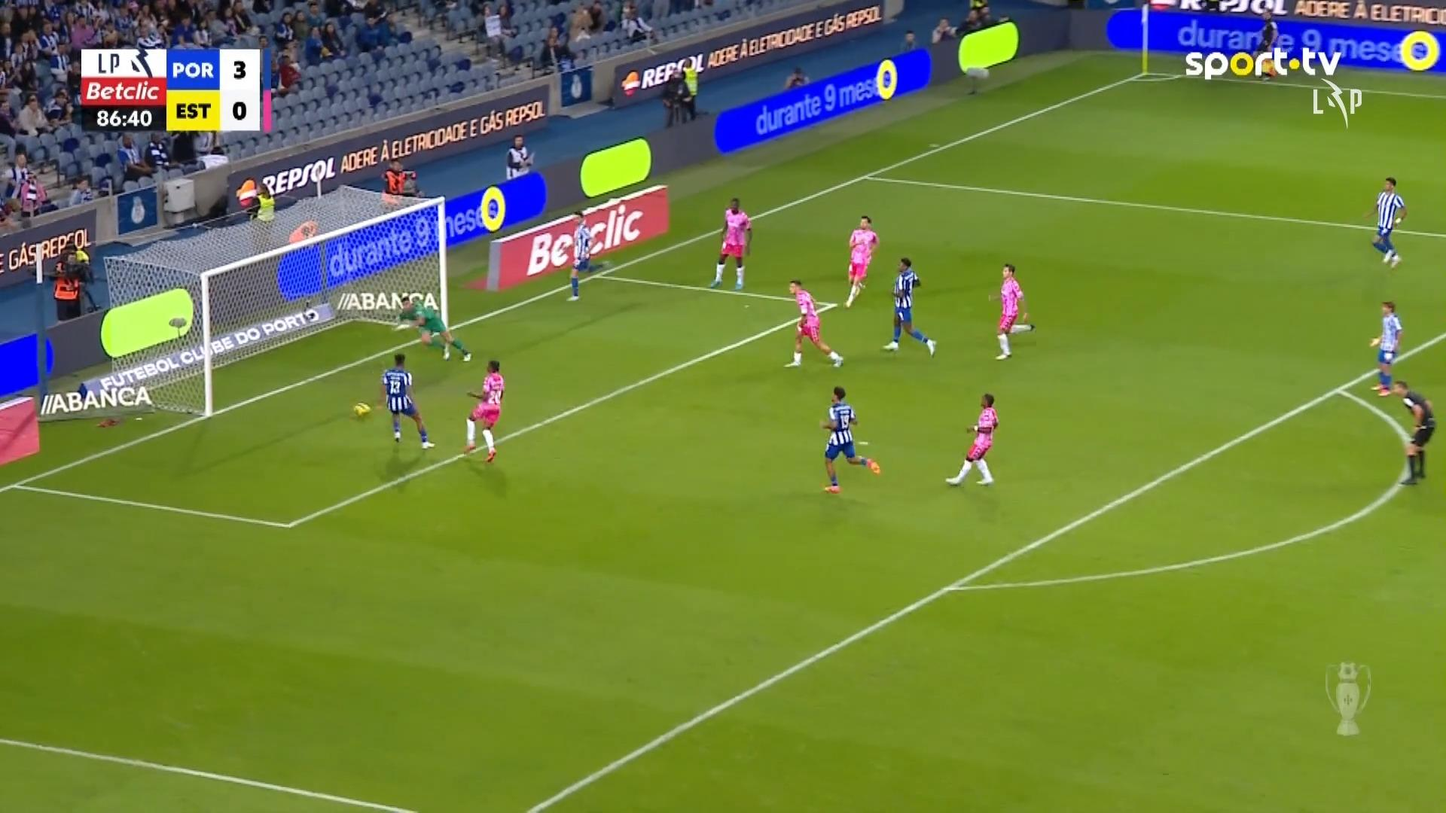ball: (352, 402, 370, 416)
goalkeeper: (391, 290, 471, 361)
player: (819, 385, 880, 493), (880, 256, 937, 357), (782, 279, 843, 368), (380, 352, 435, 449), (944, 392, 999, 486), (462, 359, 505, 462), (988, 262, 1032, 360), (709, 196, 752, 290), (1364, 176, 1407, 268), (1368, 300, 1402, 397), (844, 215, 879, 308), (566, 209, 594, 302)
referee: (1389, 379, 1435, 485), (1255, 8, 1279, 80)
